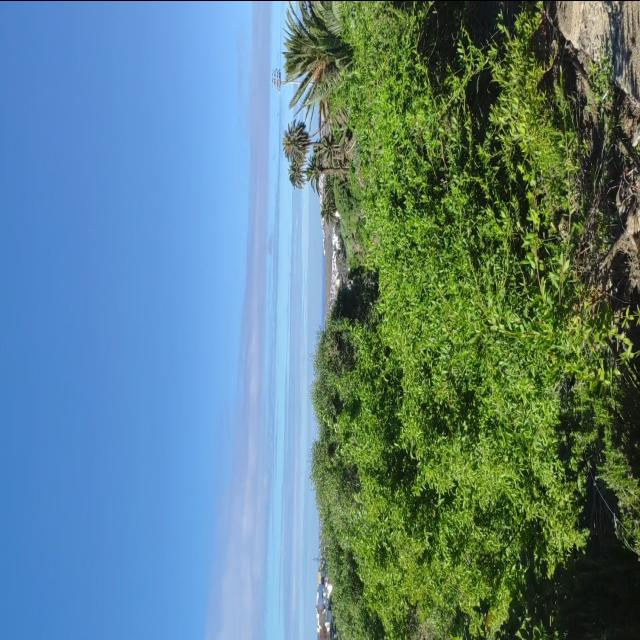Palm-Trees: (284, 0, 339, 118), (282, 119, 334, 164), (306, 147, 341, 193), (289, 156, 309, 190)
